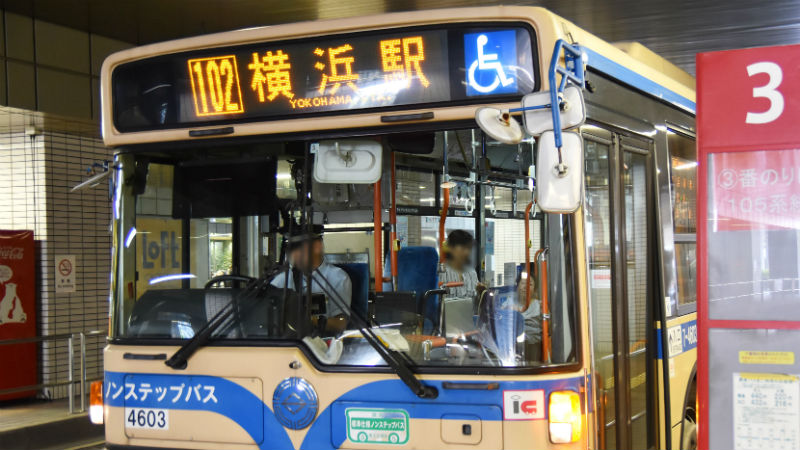destination: (174, 26, 454, 125)
